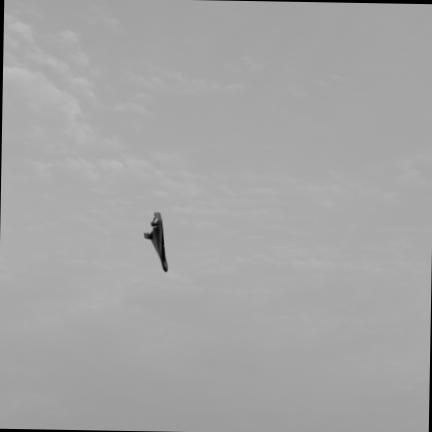Shahed: (143, 212, 166, 270)
